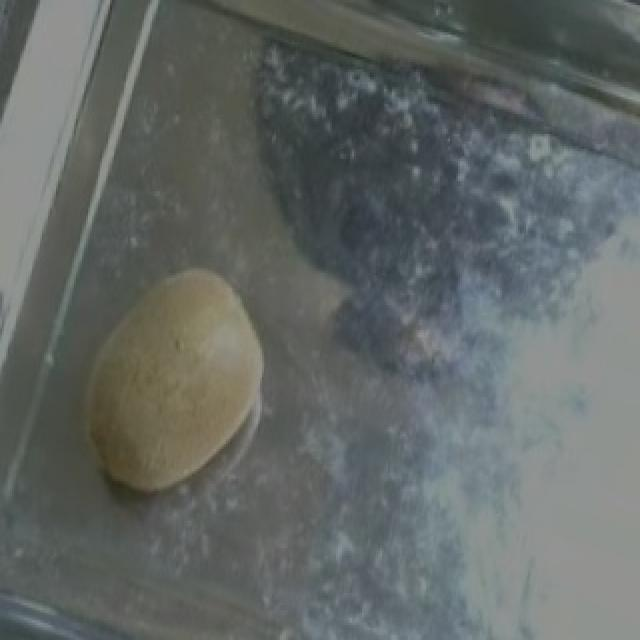Fruit: (24, 236, 300, 521)
